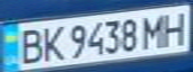3: (103, 17, 124, 55)
4: (84, 19, 109, 57)
8: (118, 15, 142, 53)
9: (63, 20, 87, 60)
B: (12, 26, 48, 65)
H: (157, 8, 190, 46)
K: (36, 23, 66, 62)
M: (139, 11, 172, 50)
